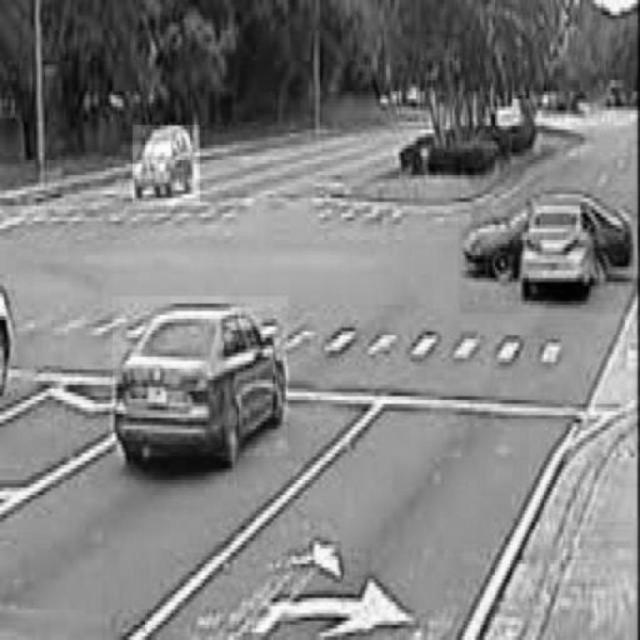accident: (459, 191, 636, 313)
vehicle: (113, 297, 288, 457), (133, 125, 200, 202)
